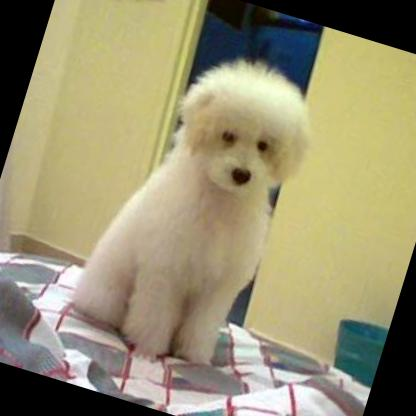toy_poodle: (58, 25, 330, 387)
